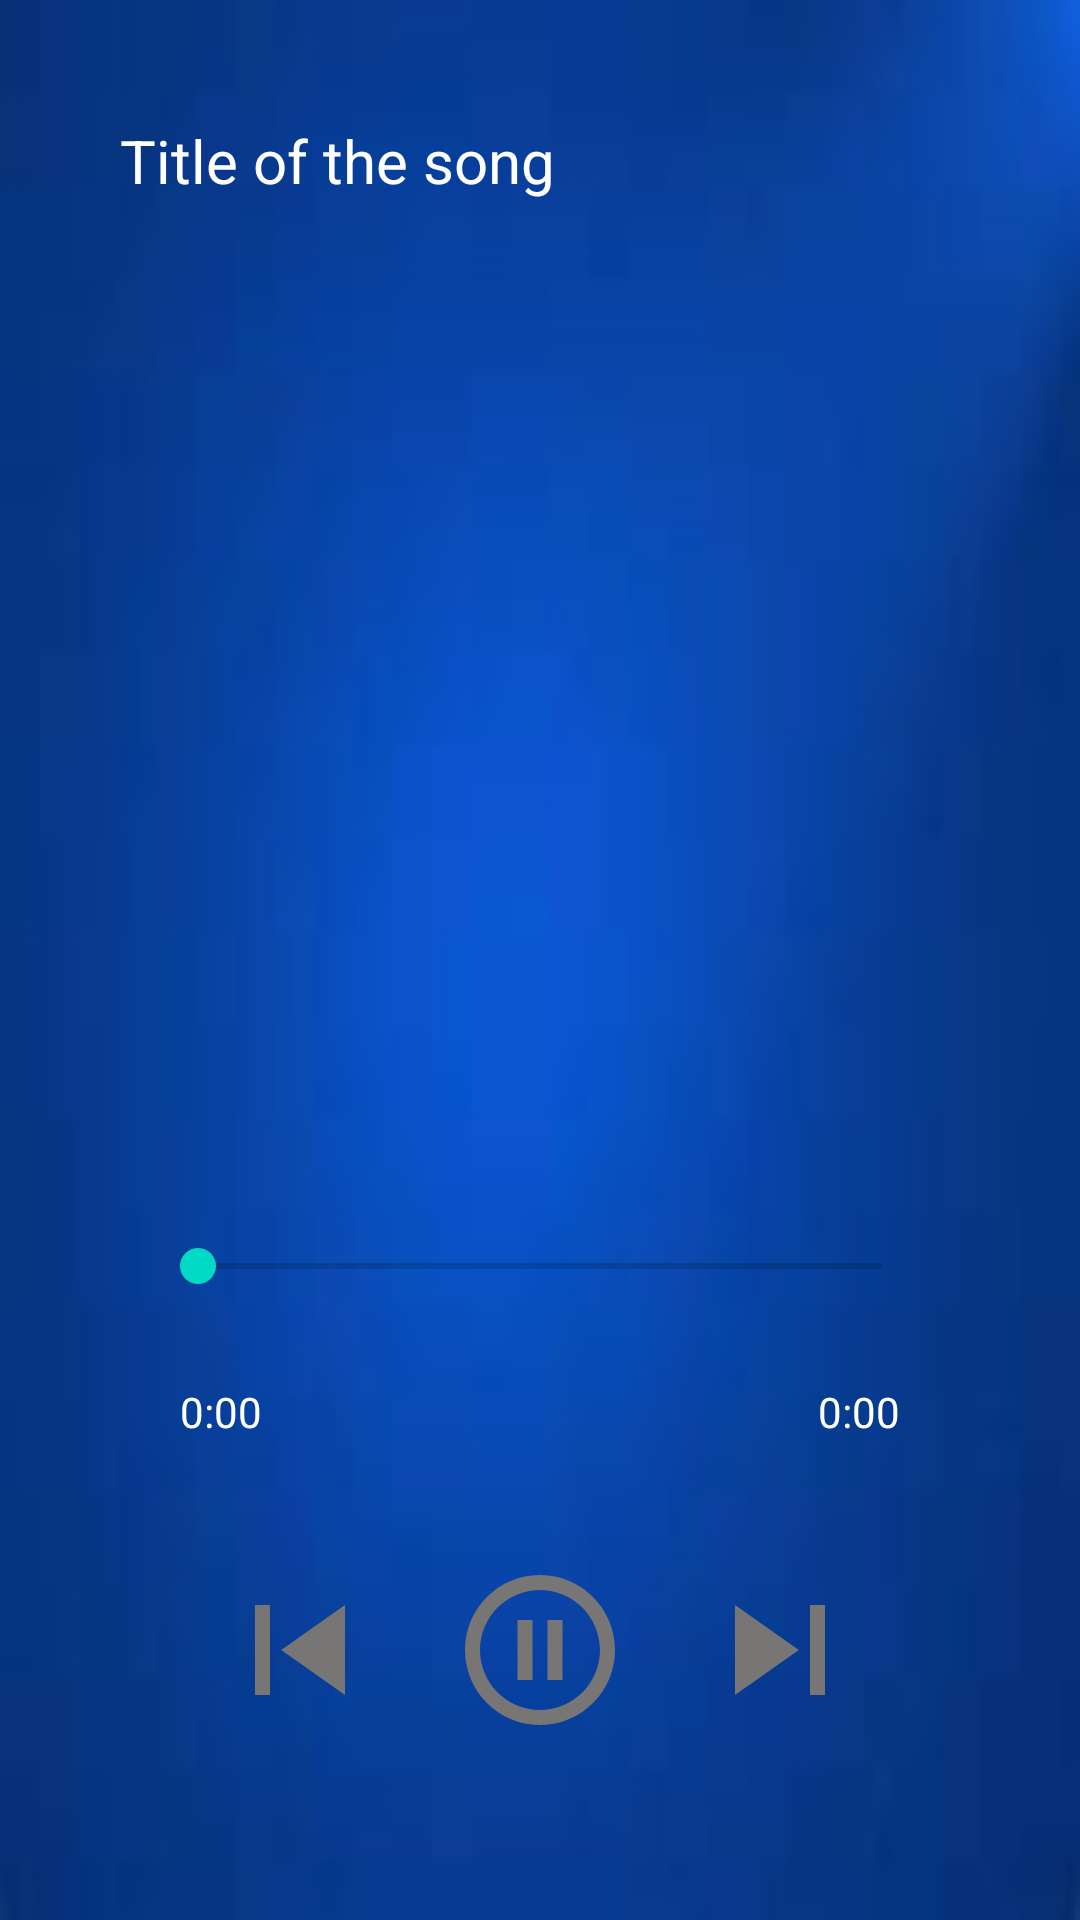

Icons on this 1080 × 1920 Android screen, each with the point to tap as point (x, y):
pause: point (540, 1650)
skipnext: point (780, 1650)
skipprevious: point (314, 1650)
